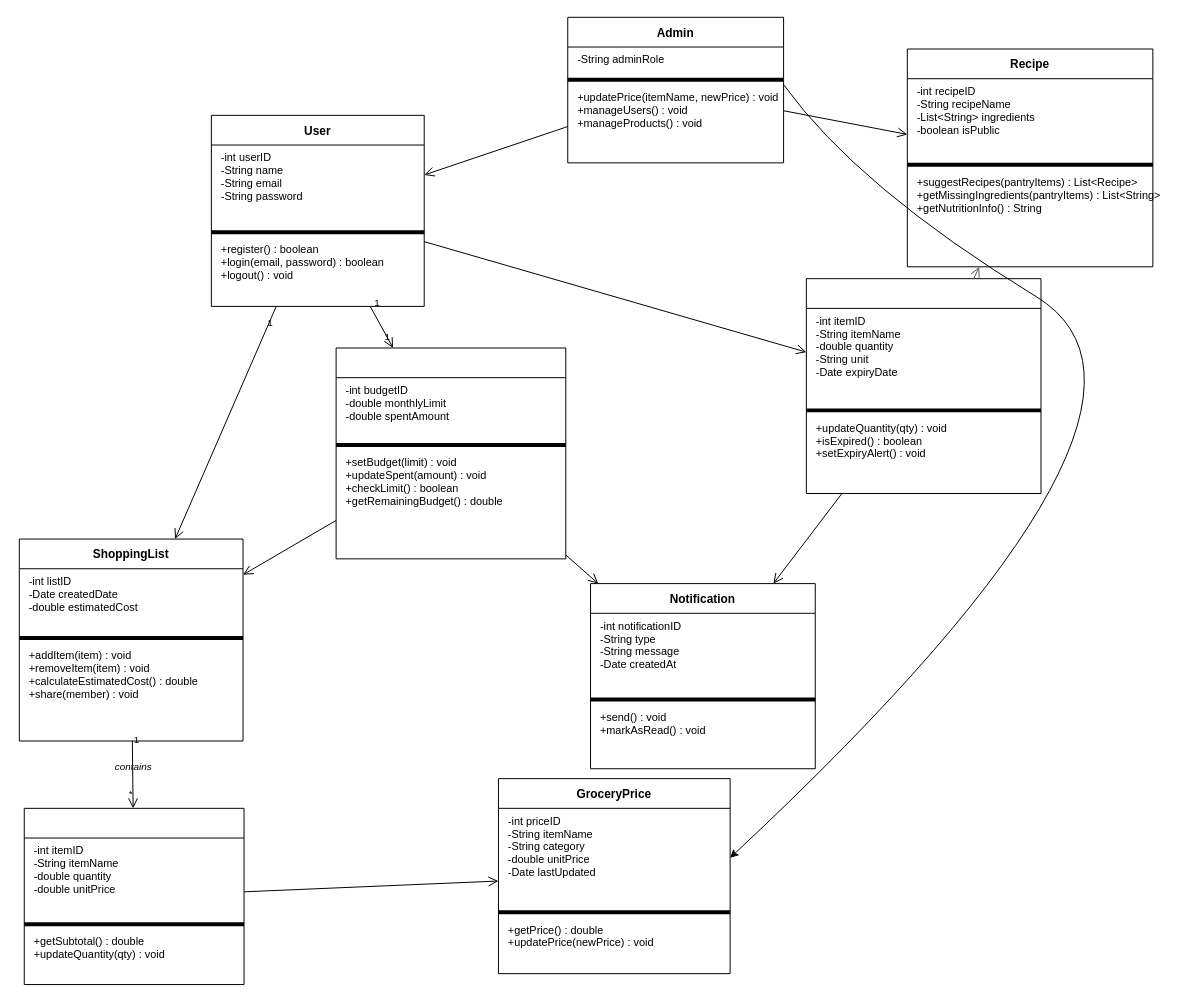
The diagram is 1178 pixels wide and 1002 high, and some of its shapes have lost their labels. The shapes that lost their labels are listed below. From the top down, each one's box as (x1, y1, x2, y2) in pixels, then its label:
(805, 278, 1041, 494): PantryItem
(335, 347, 566, 559): BudgetTracker
(23, 807, 244, 985): ShoppingListItem
